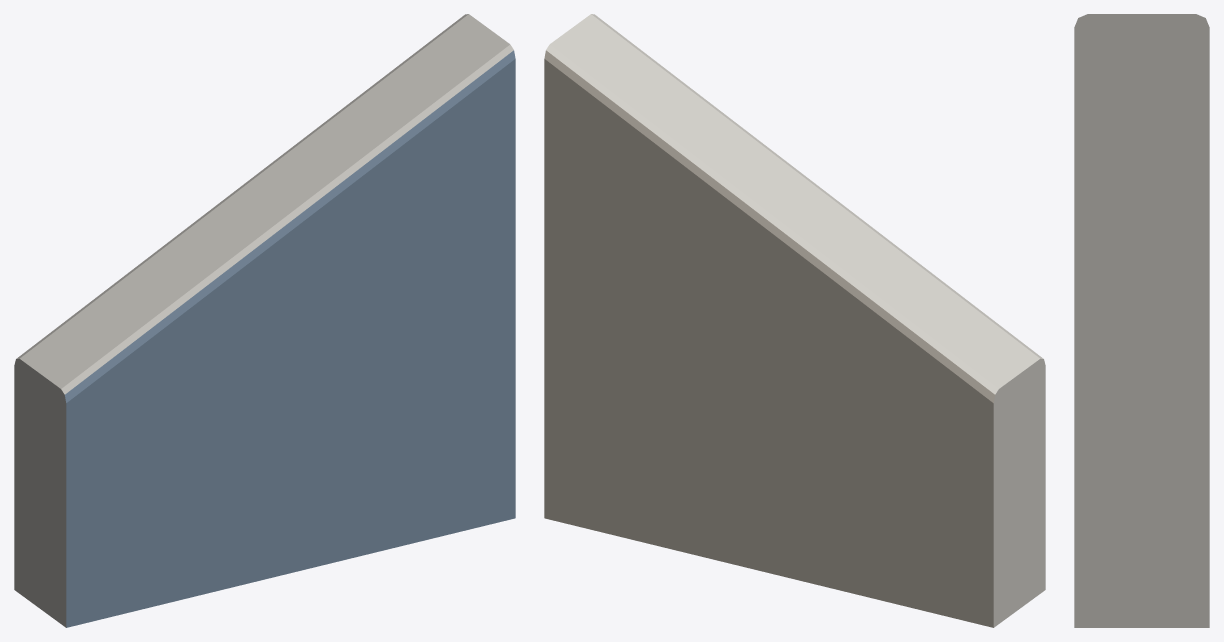
The model's file is SM_Kit_Gable_Low_1_LOD1.glb.
3 renders of one model, left to right at view 1: azimuth 30°, elevation 25°; view 2: azimuth 150°, elevation 25°; view 3: azimuth 270°, elevation 25°, orthographic. The views are drawn at different scales.
Parts seen in each view (by area): view 1: SM_Kit_Gable_Low_1_LOD1; view 2: SM_Kit_Gable_Low_1_LOD1; view 3: SM_Kit_Gable_Low_1_LOD1.
Boxes of the visible parts, bbox=[...] form: SM_Kit_Gable_Low_1_LOD1: bbox=[14, 14, 515, 627]; SM_Kit_Gable_Low_1_LOD1: bbox=[544, 14, 1045, 627]; SM_Kit_Gable_Low_1_LOD1: bbox=[1074, 14, 1209, 627].
Size of the model in its own units: 1 by 1 by 0.2.
